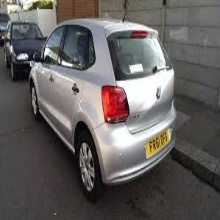no damage: (27, 18, 180, 201), (4, 21, 45, 79)
